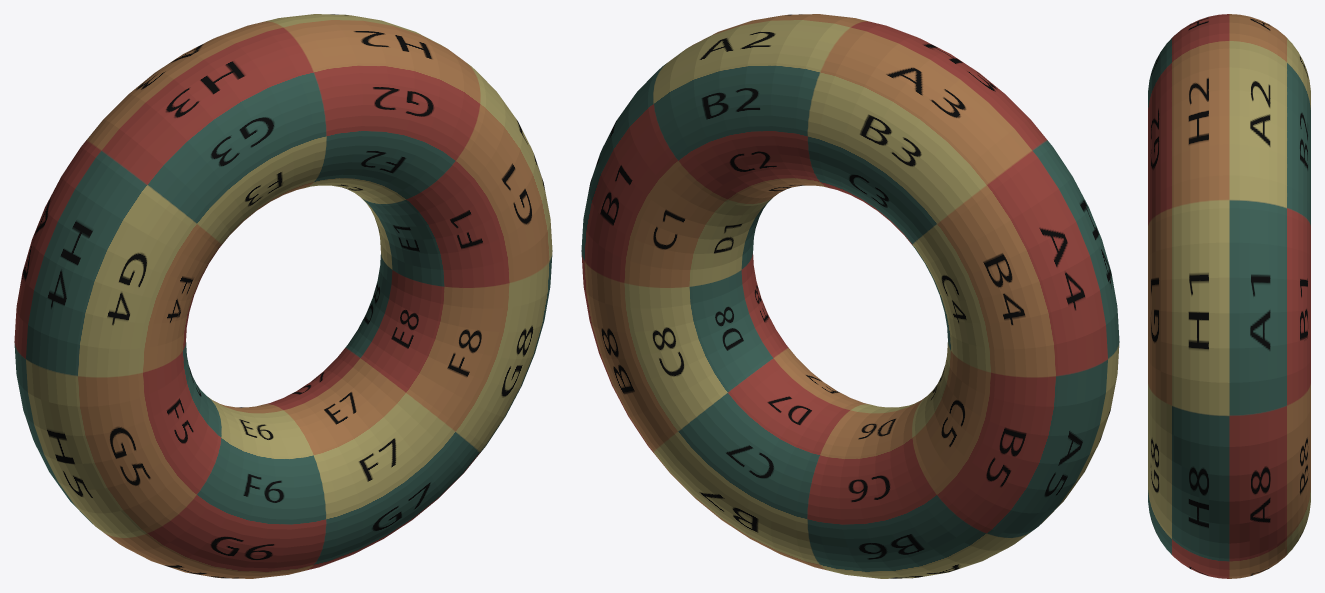
Rendered from texture_torus_R21_r29.glb.
3 renders of one model, left to right at view 1: azimuth 30°, elevation 25°; view 2: azimuth 150°, elevation 25°; view 3: azimuth 270°, elevation 25°, orthographic. The views are drawn at different scales.
Parts seen in each view (by area): view 1: world; view 2: world; view 3: world.
Boxes of the visible parts, x1,y1,x2,y2 form: world: (14, 14, 552, 578); world: (581, 14, 1119, 578); world: (1148, 14, 1310, 578).
Size of the model in its own units: 33.73 by 33.67 by 9.71.
1 material, 1 textured.
